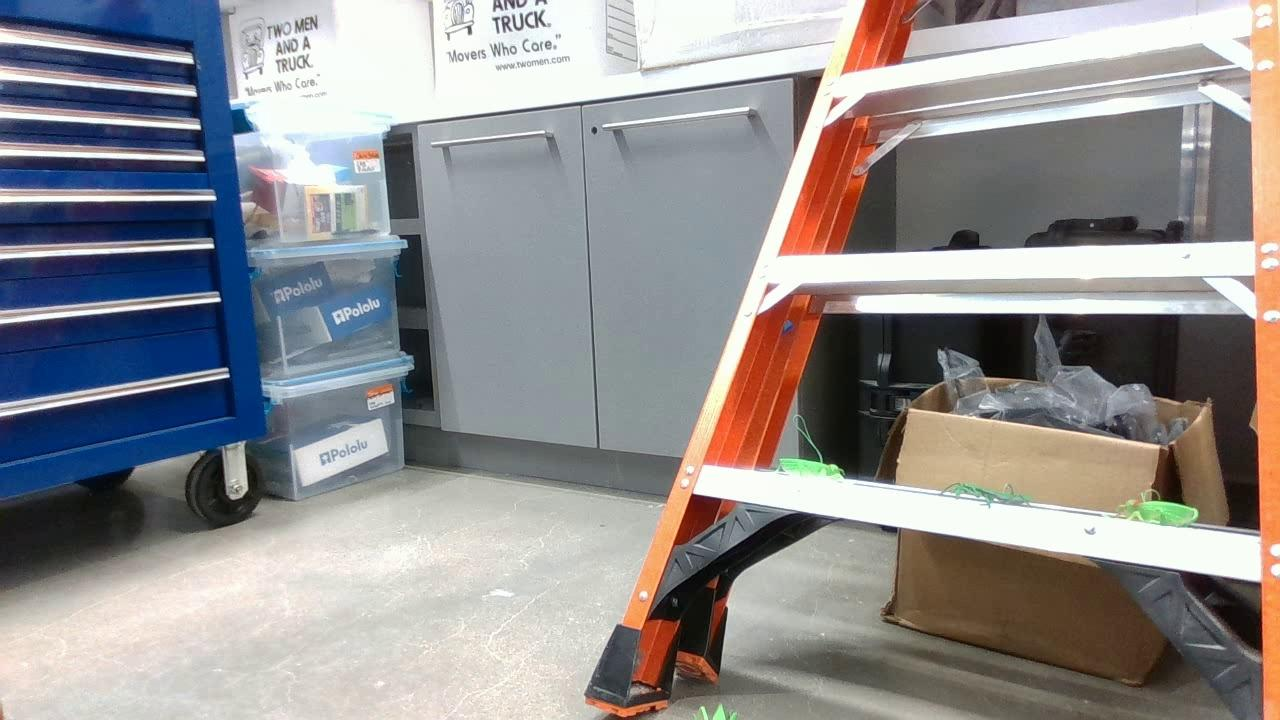grasshopper: (1113, 496, 1201, 527), (773, 457, 842, 479), (683, 702, 741, 720)
